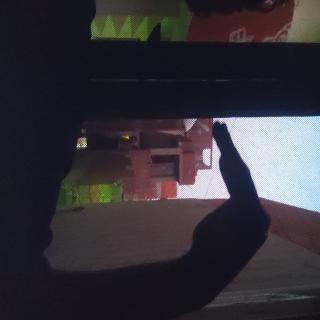HAA: (88, 58, 218, 188)
